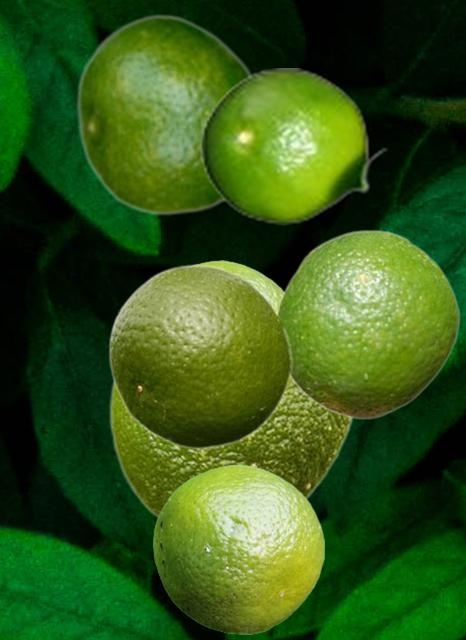calamansi: (75, 13, 251, 215), (277, 229, 459, 419), (108, 262, 292, 449), (108, 378, 352, 517), (199, 68, 388, 224), (153, 464, 323, 633), (190, 260, 293, 393)
